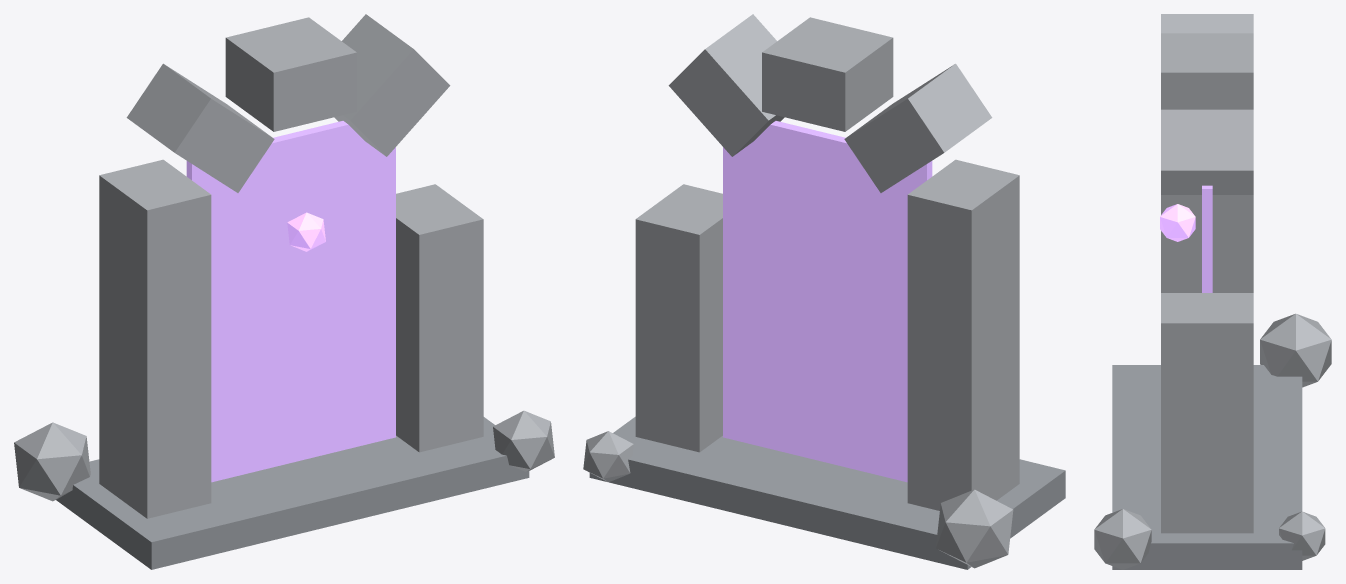
Rendered from dungeon.glb.
3 renders of one model, left to right at view 1: azimuth 30°, elevation 25°; view 2: azimuth 150°, elevation 25°; view 3: azimuth 270°, elevation 25°, orthographic. The views are drawn at different scales.
Visible parts, largest first — view 1: void_glow, left_pillar, base.002, right_pillar, arch_stone.008, arch_stone.007, arch_stone.009, rubble, rubble.001, rune.003; view 2: void_glow, left_pillar, base.002, right_pillar, arch_stone.008, arch_stone.007, arch_stone.009, rubble, rubble.002; view 3: right_pillar, base.002, arch_stone.009, arch_stone.008, left_pillar, rubble, rubble.001, arch_stone.007, rubble.002, void_glow, rune.003.
Boxes of the visible parts, x1,y1,x2,y2 form: void_glow: (186,121,395,482); left_pillar: (99,159,211,518); base.002: (56,417,529,569); right_pillar: (396,184,483,452); arch_stone.008: (225,17,356,131); arch_stone.007: (126,63,274,192); arch_stone.009: (334,14,450,156); rubble: (14,422,90,501); rubble.001: (493,410,554,471); rune.003: (287,212,325,251); void_glow: (723,121,932,482); left_pillar: (907,159,1019,510); base.002: (589,416,1065,569); right_pillar: (635,184,722,452); arch_stone.008: (762,17,893,131); arch_stone.007: (844,63,992,192); arch_stone.009: (668,14,784,156); rubble: (936,489,1013,568); rubble.002: (583,431,633,482); right_pillar: (1161,293,1253,533); base.002: (1112,365,1302,569); arch_stone.009: (1161,109,1253,194); arch_stone.008: (1161,33,1253,109); left_pillar: (1161,195,1253,292); rubble: (1260,313,1331,387); rubble.001: (1094,509,1151,569); arch_stone.007: (1161,14,1253,33); rubble.002: (1279,511,1325,560); void_glow: (1202,185,1212,292); rune.003: (1160,204,1195,241).
Size of the model in its own units: 2.34 by 2.24 by 1.13.
